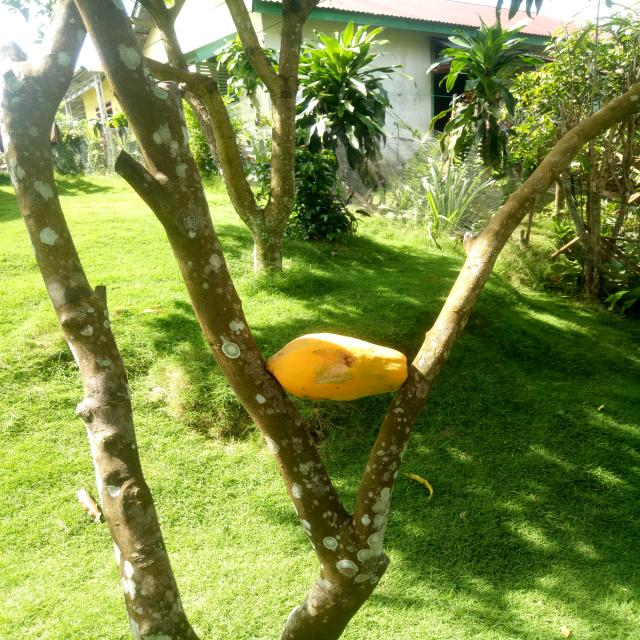Pepaya rippen: (260, 326, 409, 404)
